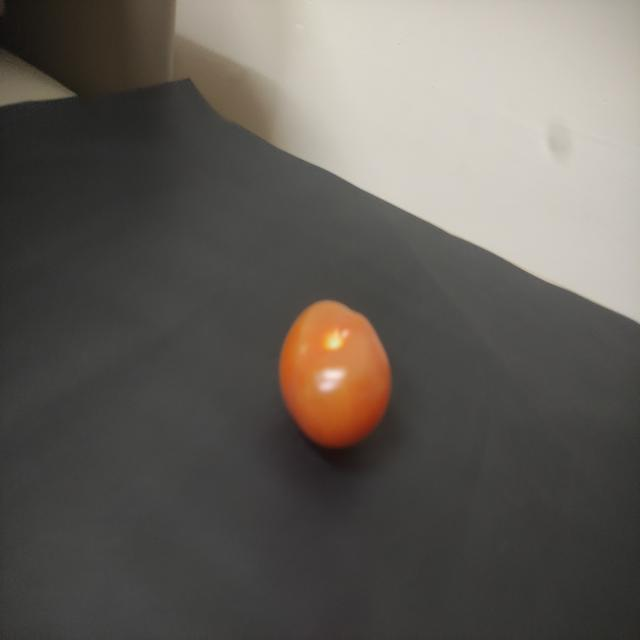sari: (267, 284, 403, 457)
